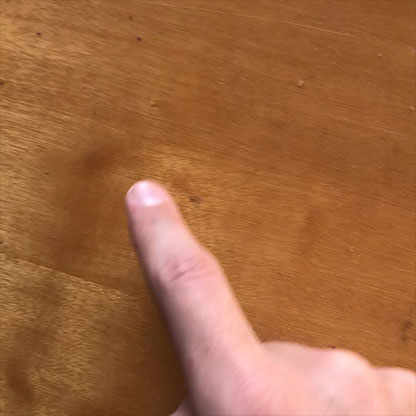fingertip: (119, 166, 186, 225)
